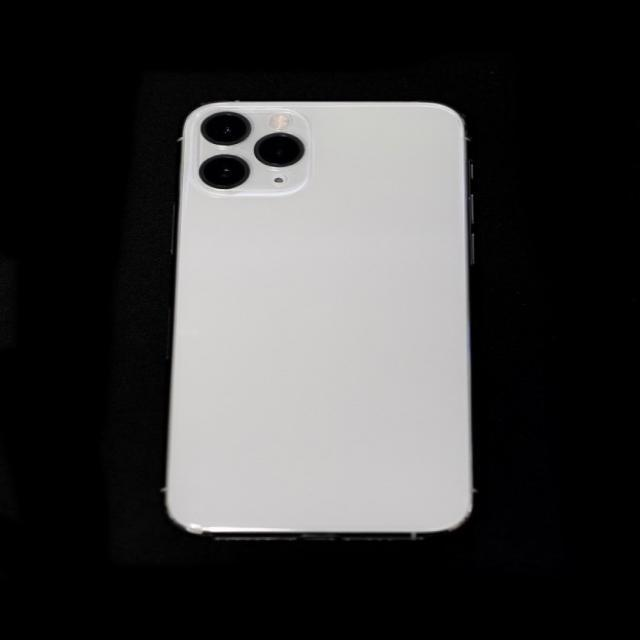lens: (192, 108, 310, 196)
phone: (161, 94, 477, 537)
